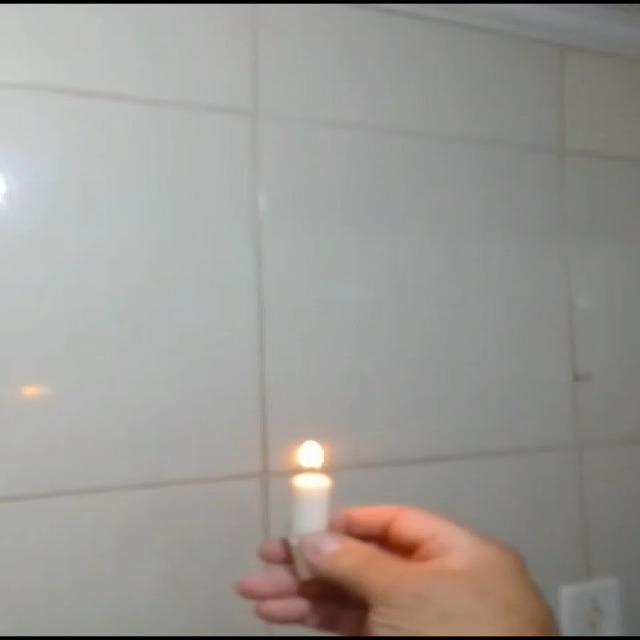fogo-ypXI: (286, 435, 332, 474)
